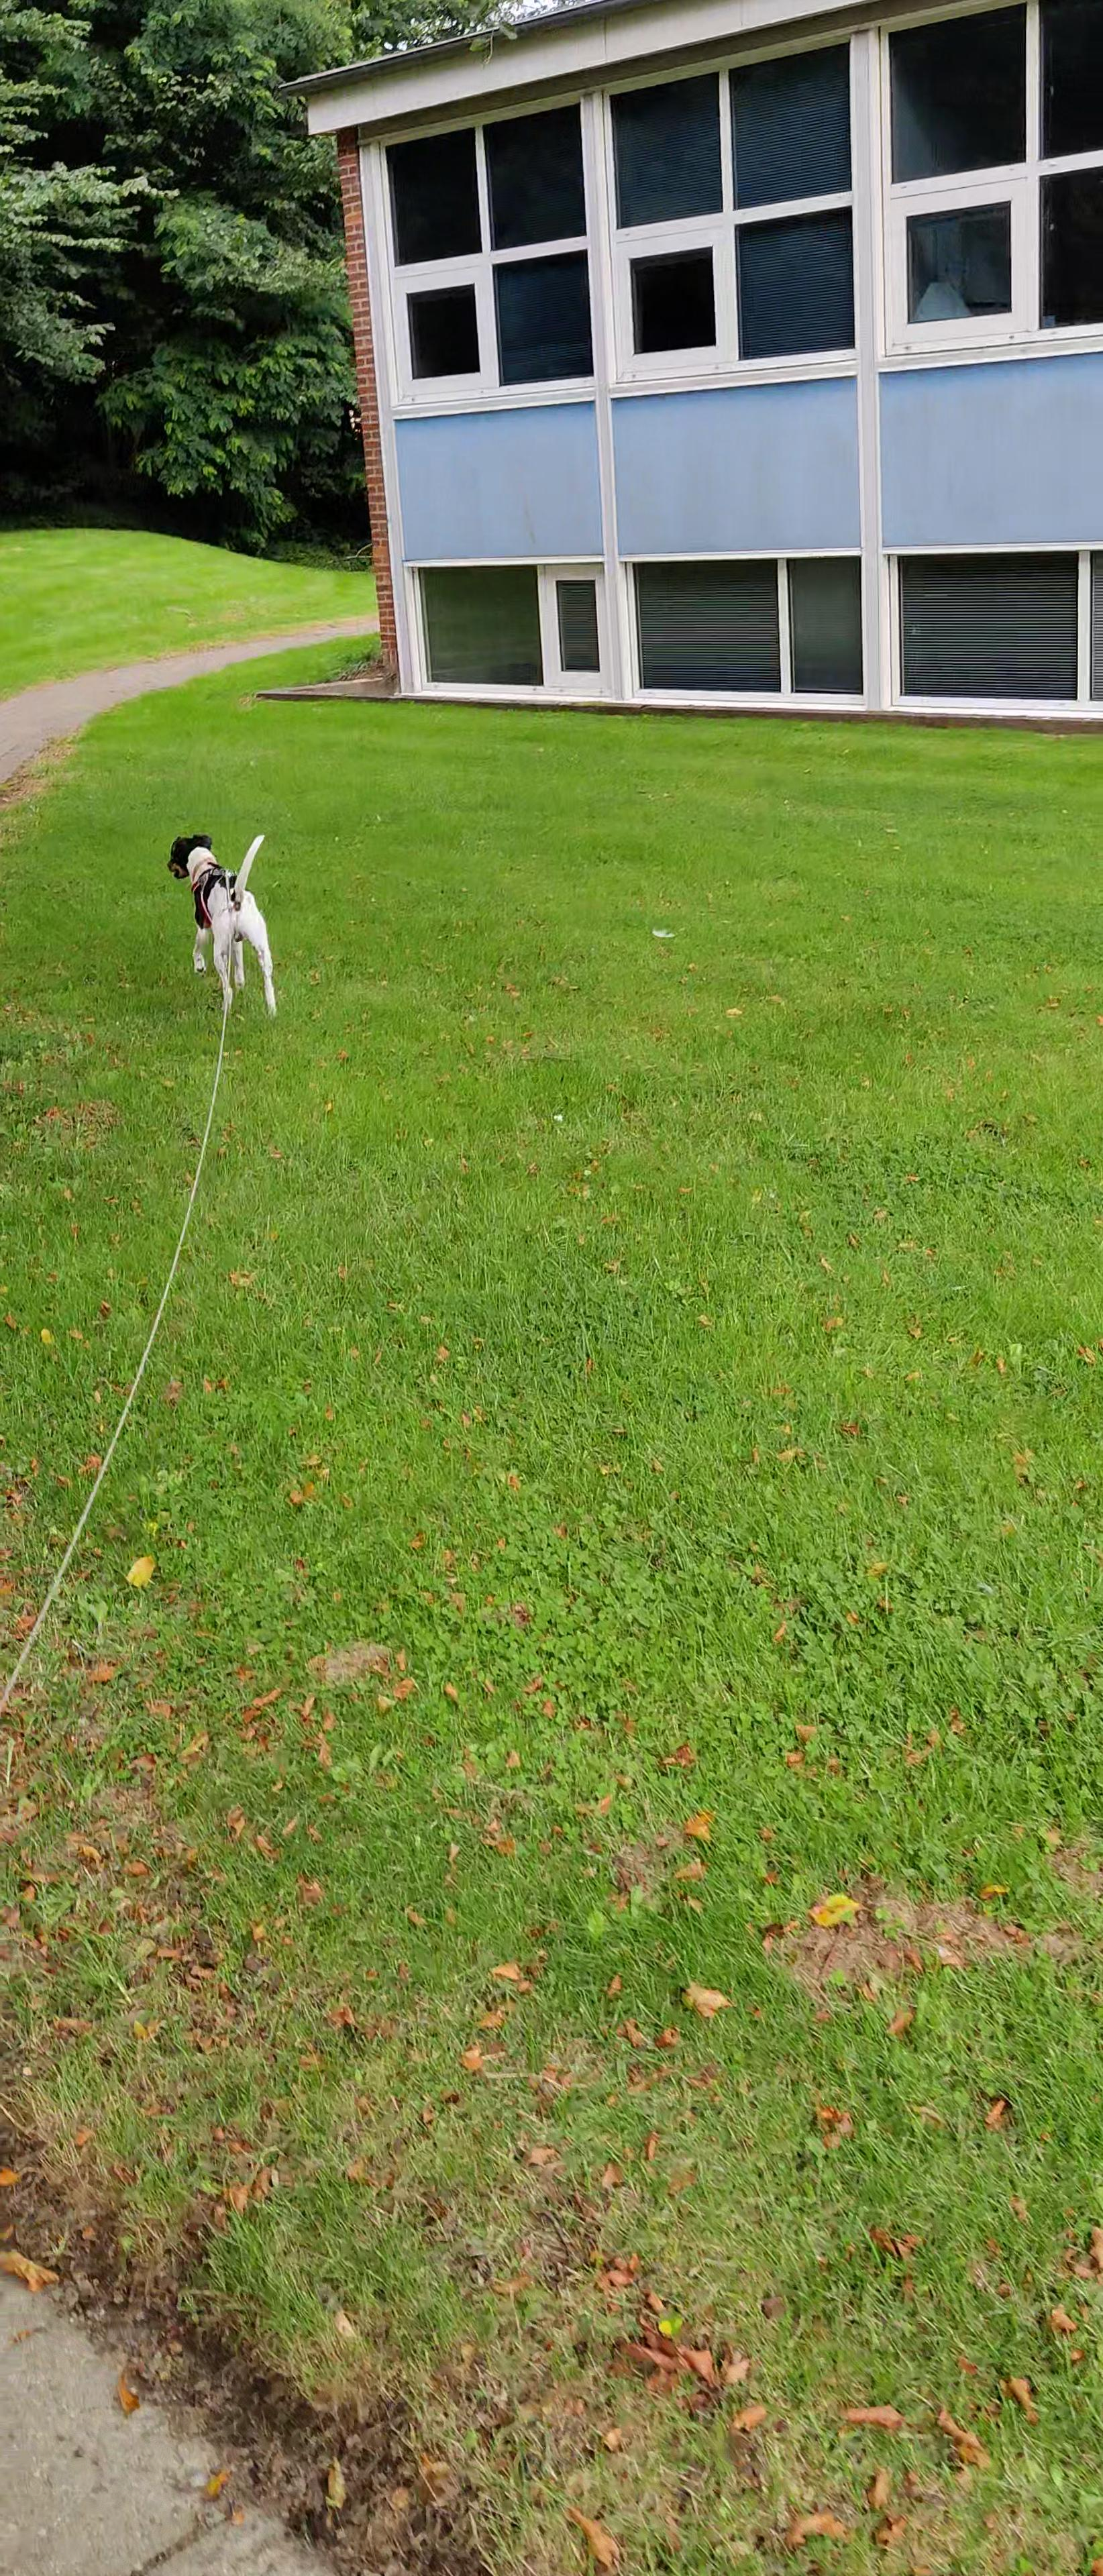Dog: (163, 815, 283, 1017)
